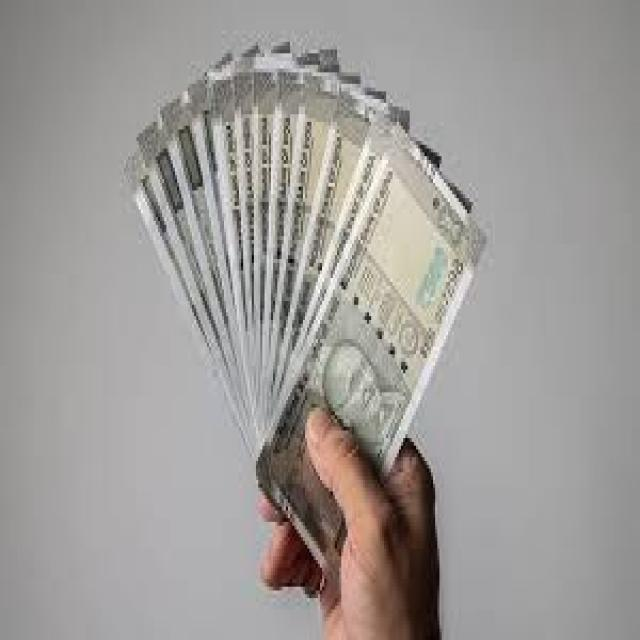money: (241, 88, 499, 582)
